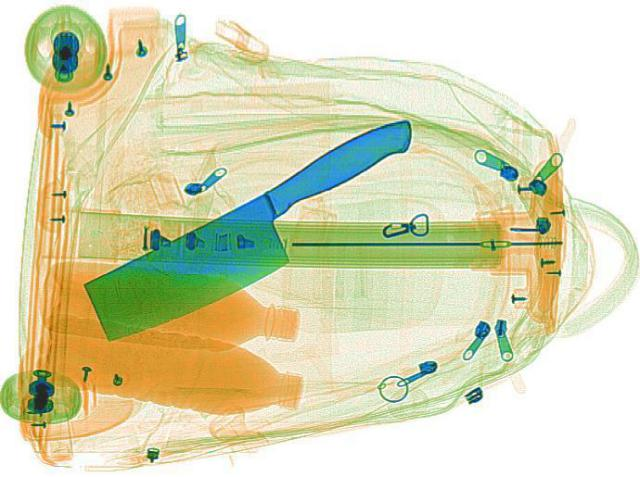Knife: (51, 109, 466, 354)
